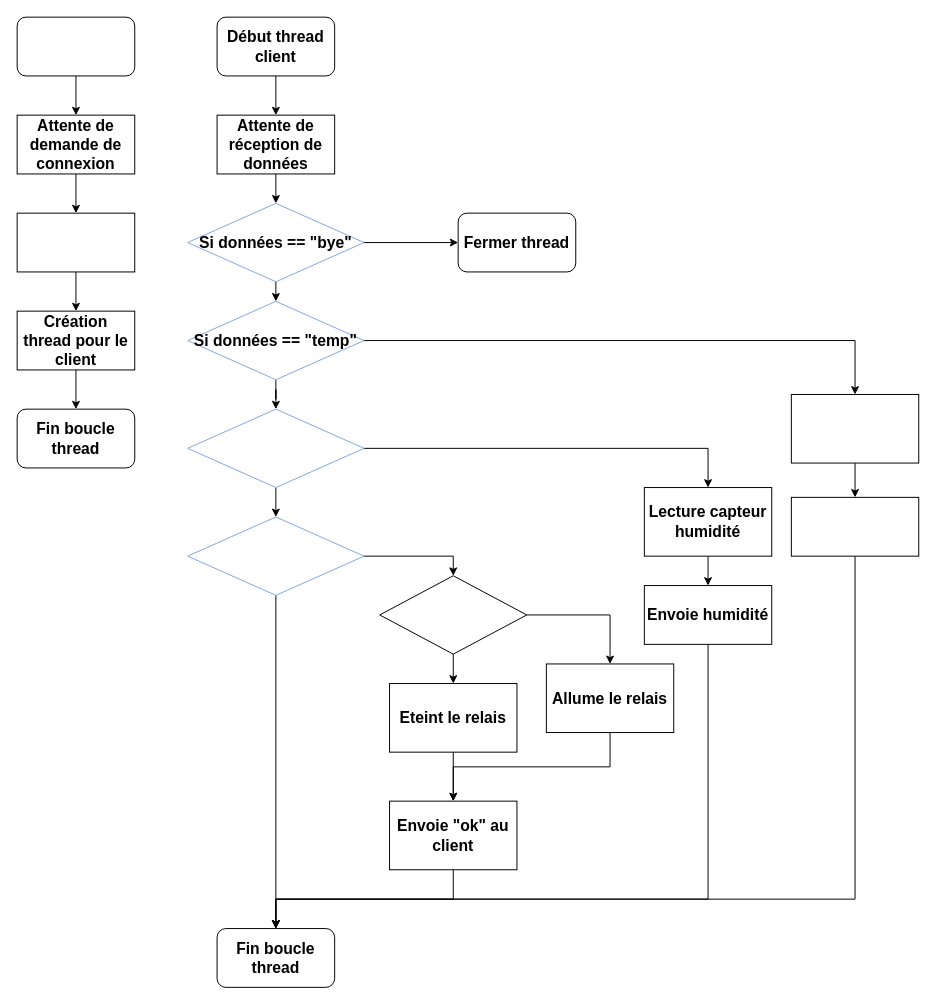
Some shapes in this 936 by 1005 pixel diagram are drawn without their labels. The centre of each missing label's shape, as x and y in pixels:
Accepter connexion: (75,242)
Début thread listener: (75,46)
Envoie température: (854,526)
Lecture capteur température: (854,428)
Si données == "humi": (275,448)
Si données == "relais": (275,555)
Si données contient "on": (453,614)
